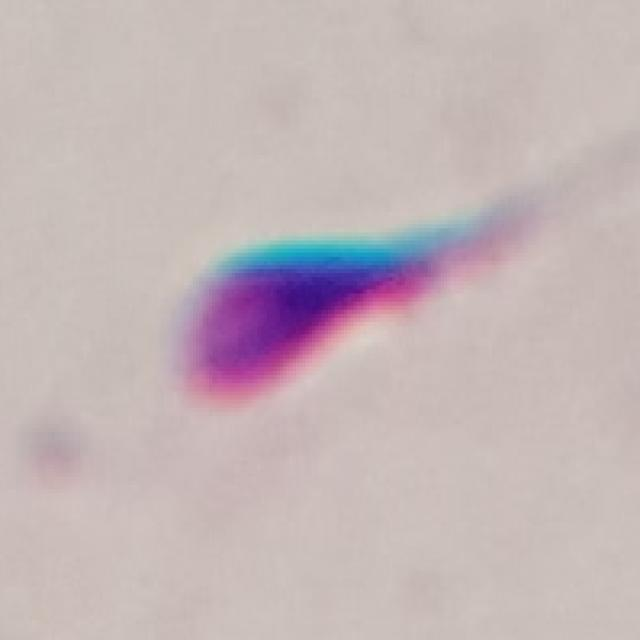abnormal sperm: (176, 164, 606, 410)
